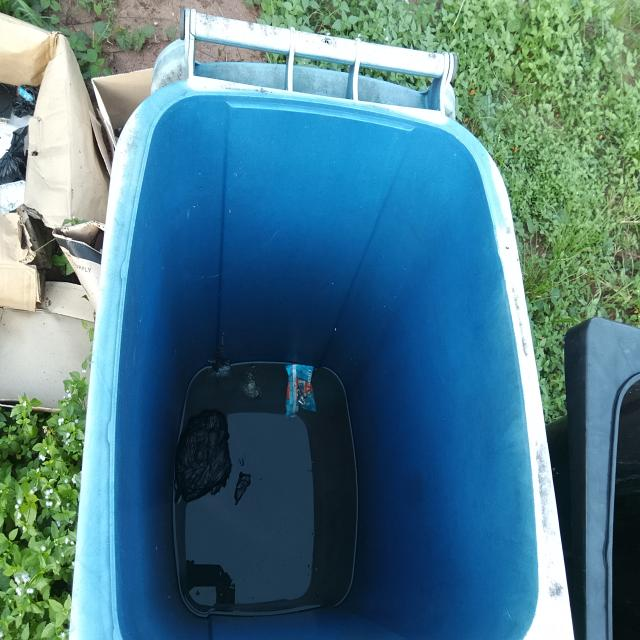empty: (89, 81, 552, 640)
